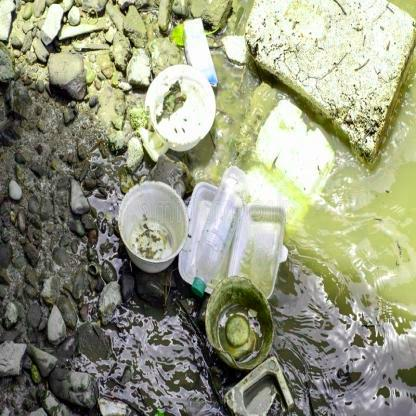Metal: (198, 279, 271, 372)
Plastic: (178, 196, 291, 282), (185, 162, 247, 291), (116, 177, 188, 276), (142, 62, 217, 154)
Trash: (254, 97, 334, 200)
